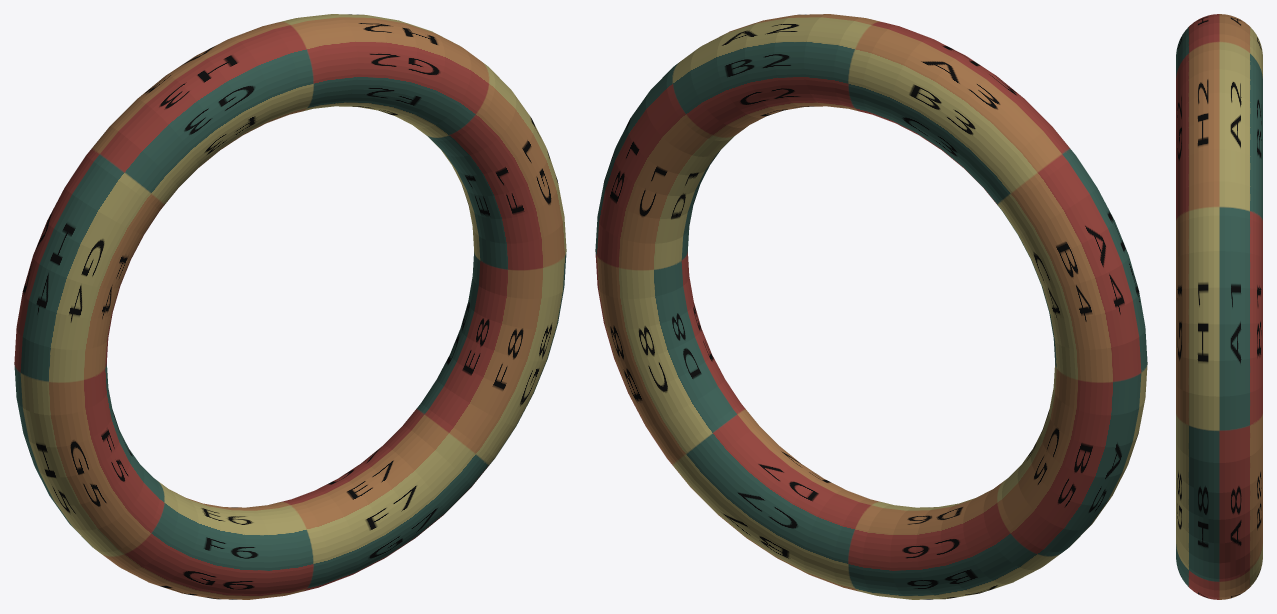
The model's file is texture_torus_R16_r6.glb.
The picture shows the model from 3 angles, left to right: view 1: azimuth 30°, elevation 25°; view 2: azimuth 150°, elevation 25°; view 3: azimuth 270°, elevation 25°; orthographic projection. The views are drawn at different scales.
Visible parts, largest first — view 1: world; view 2: world; view 3: world.
Part boxes in pixels (<box>): world: <box>14,14,566,599</box>; world: <box>595,14,1147,599</box>; world: <box>1176,14,1262,599</box>.
Bounding box in the file's own units: 24.27 × 24.22 × 3.59.
1 material, 1 textured.
